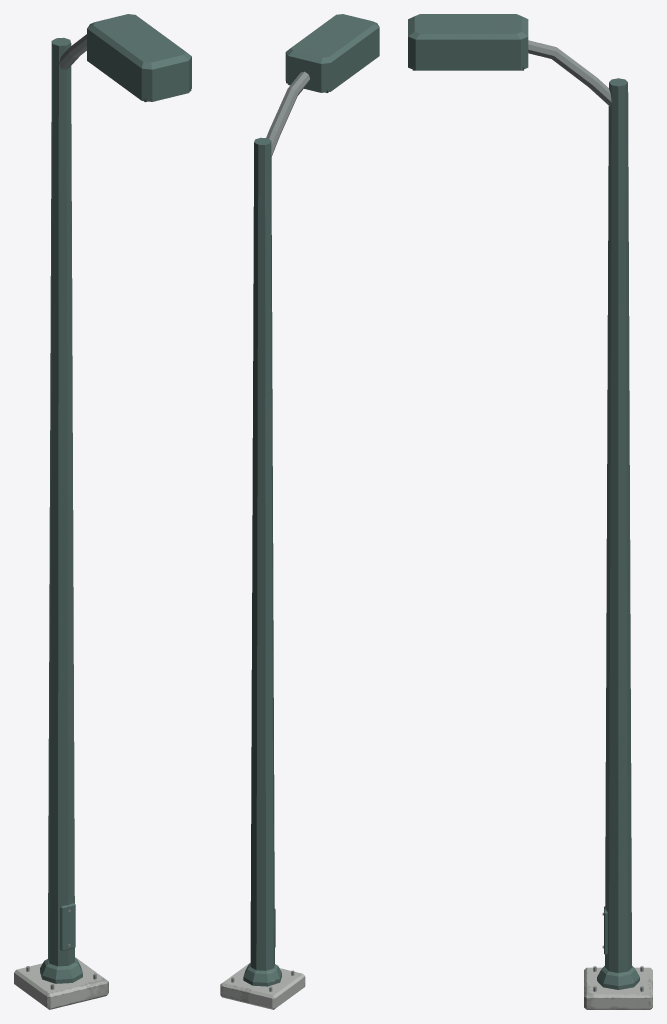
Rendered from utility_street_lamp_5m.glb.
3 views of the same model, side by side, from view 1: azimuth 30°, elevation 25°; view 2: azimuth 150°, elevation 25°; view 3: azimuth 270°, elevation 25° (orthographic). The views are drawn at different scales.
Visible parts, largest first — view 1: LampAssembly; view 2: LampAssembly; view 3: LampAssembly.
Boxes of the visible parts, x1,y1,x2,y2 form: LampAssembly: (14, 14, 191, 1009); LampAssembly: (220, 14, 379, 1009); LampAssembly: (408, 14, 652, 1009).
Size of what is drawn, in the model's own units: 0.32 by 5 by 1.14.
Materials: 2 (1 with a texture image).
